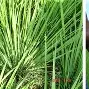crops: (0, 0, 81, 86), (80, 0, 89, 51), (81, 47, 89, 86)
